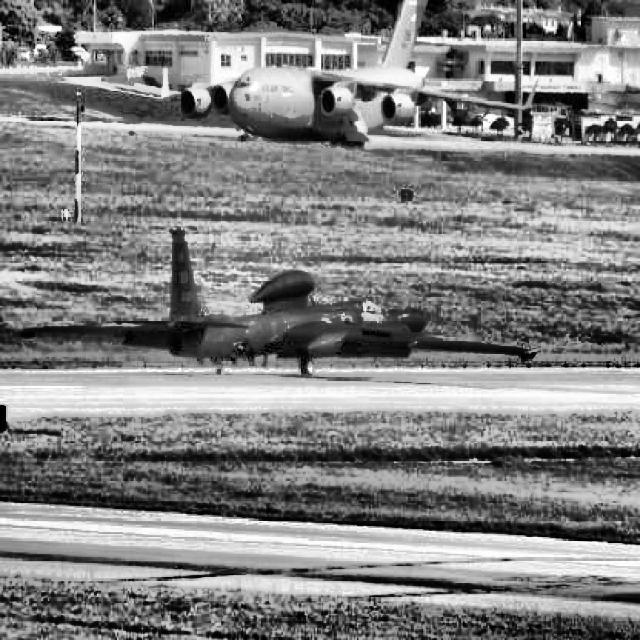C17: (160, 1, 540, 148)
U2: (17, 229, 537, 376)
